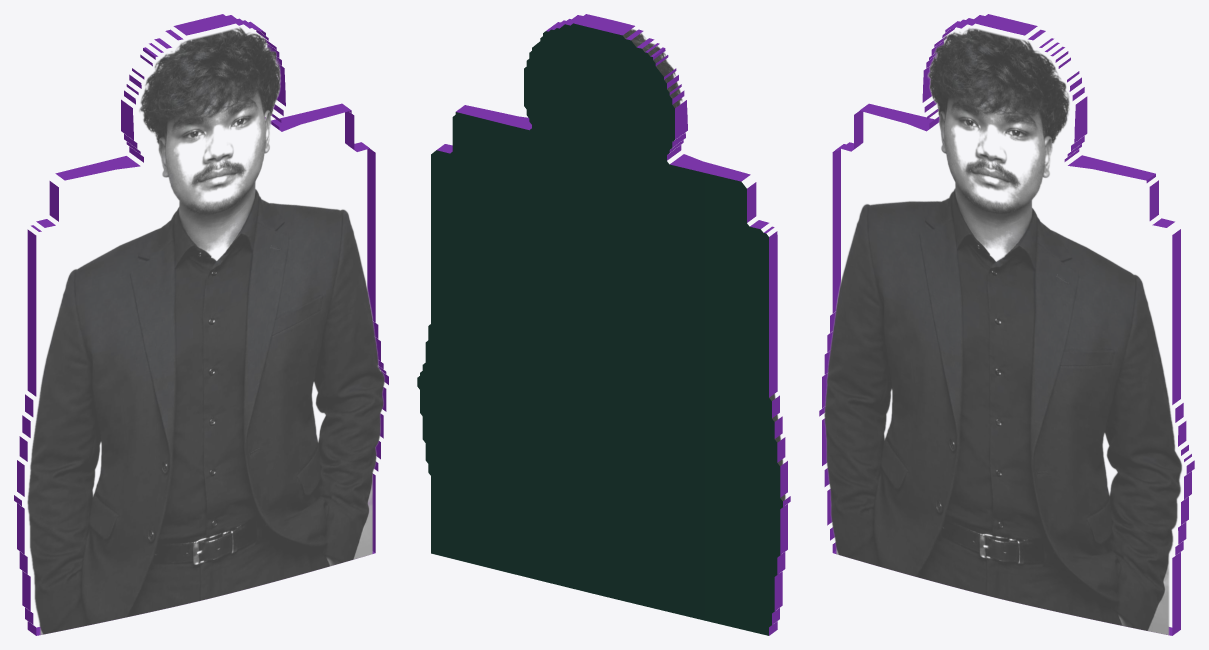
File: rameshwor-portrait-3d.glb
The picture shows the model from 3 angles, left to right: view 1: azimuth 30°, elevation 25°; view 2: azimuth 150°, elevation 25°; view 3: azimuth 330°, elevation 25°; orthographic projection.
Visible parts, largest first — view 1: Rameshwor3DBust; view 2: Rameshwor3DBust; view 3: Rameshwor3DBust.
Part boxes in pixels (x1,y1,x2,y2): Rameshwor3DBust: [14, 14, 388, 635]; Rameshwor3DBust: [417, 14, 790, 635]; Rameshwor3DBust: [819, 14, 1194, 635].
Bounding box in the file's own units: 5.95 × 8.8 × 0.6019.
3 materials, 1 textured.
